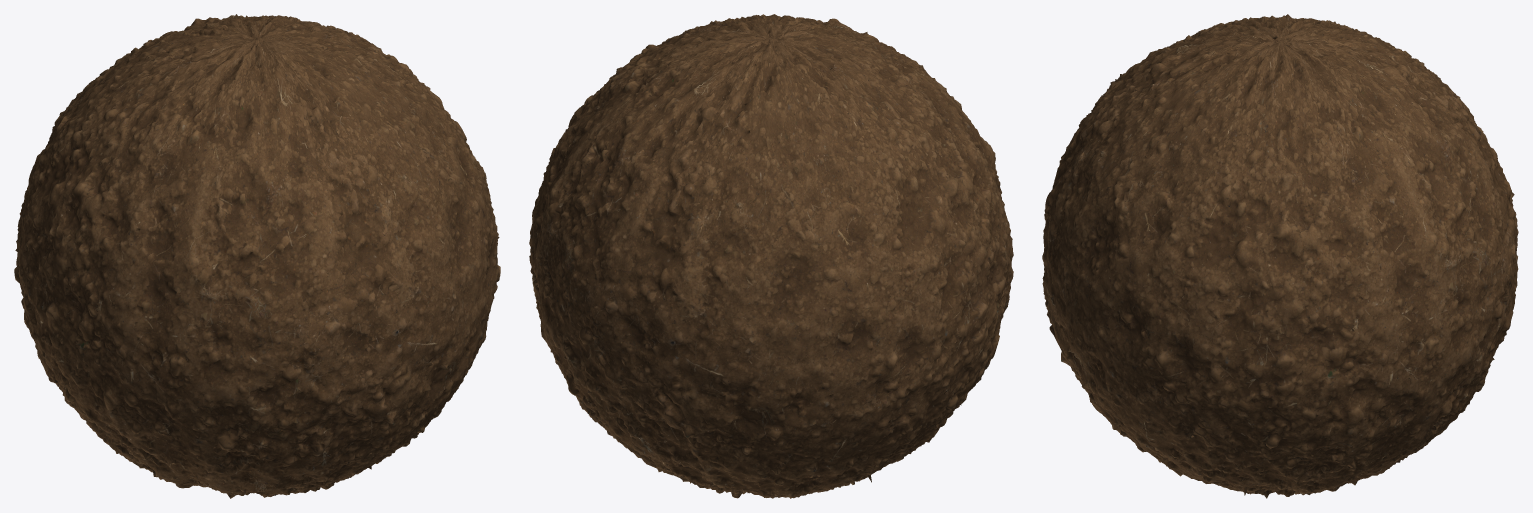
The model's file is farm_soil_2k.gltf.
The picture shows the model from 3 angles, left to right: view 1: azimuth 30°, elevation 25°; view 2: azimuth 150°, elevation 25°; view 3: azimuth 270°, elevation 25°; orthographic projection.
Parts seen in each view (by area): view 1: sphere_gltf; view 2: sphere_gltf; view 3: sphere_gltf.
Boxes of the visible parts, x1=… form: sphere_gltf: x1=14, y1=14, x2=500, y2=498; sphere_gltf: x1=529, y1=14, x2=1013, y2=498; sphere_gltf: x1=1042, y1=14, x2=1518, y2=498.
Size of the model in its own units: 2.02 by 2.02 by 1.99.
1 material, 1 textured.
